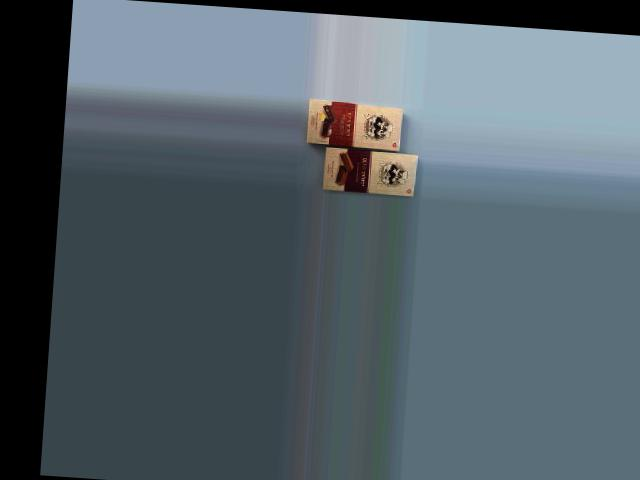chocolate: (303, 97, 407, 160)
